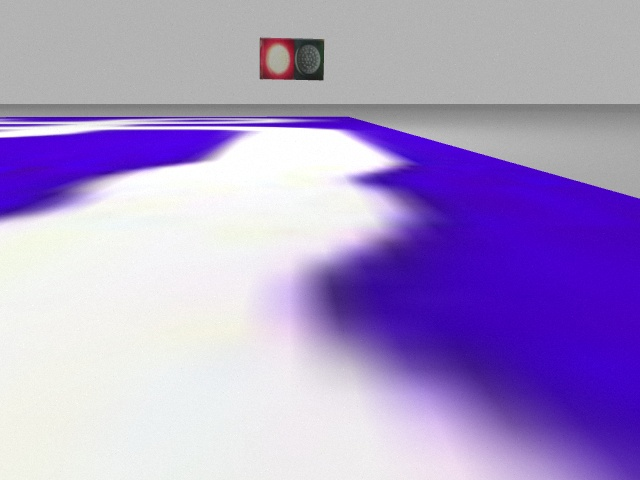red: (260, 37, 295, 80)
